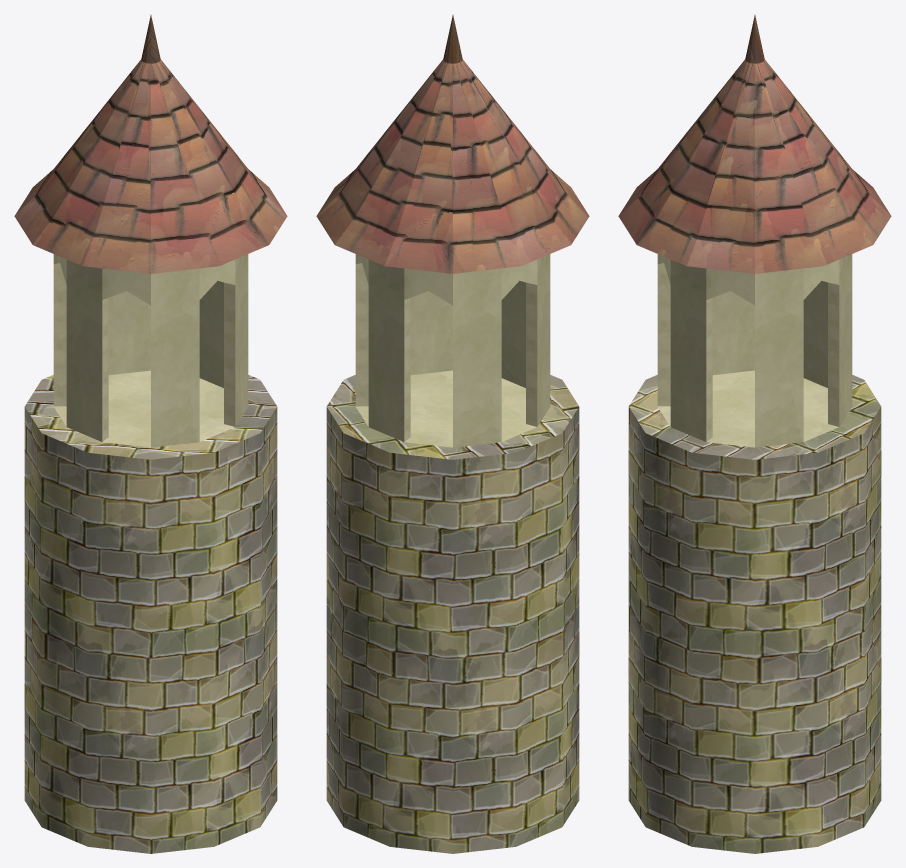
File: tower_003 (1).fbx
3 renders of one model, left to right at view 1: azimuth 30°, elevation 25°; view 2: azimuth 150°, elevation 25°; view 3: azimuth 270°, elevation 25°, orthographic.
Visible parts, largest first — view 1: Cylinder001; view 2: Cylinder001; view 3: Cylinder001.
Part boxes in pixels (<box>): Cylinder001: <box>14,15,287,853</box>; Cylinder001: <box>316,15,589,853</box>; Cylinder001: <box>618,15,891,853</box>.
Size of the model in its own units: 119 by 379 by 119.
